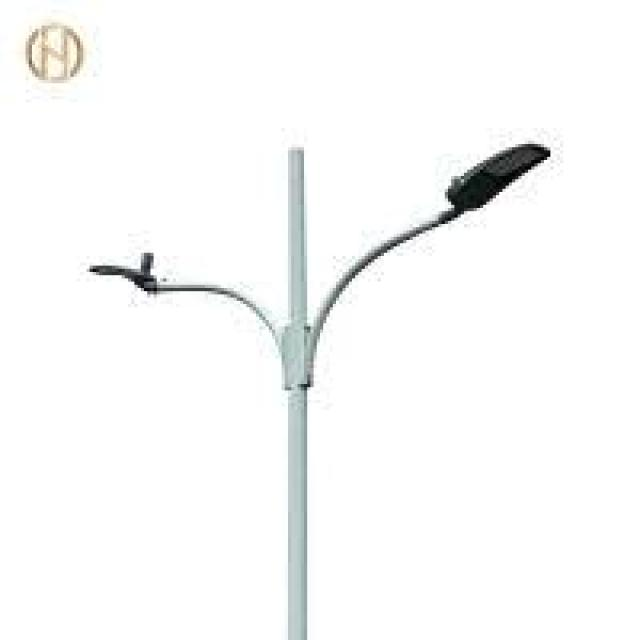Street Light: (83, 141, 554, 640)
